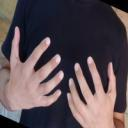hand: (0, 25, 64, 111), (66, 55, 117, 127)
